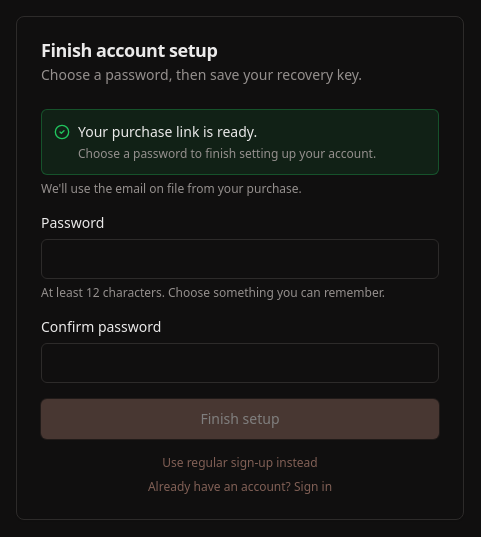
it: AuthPane claim setup › switches from claim setup to regular sign-up explicitly
The width and height of the screenshot is (481, 537).
What coordinates should you click on to do the following:
click the button "Use regular sign-up instead"
I would click on:
 (240, 463)
Its box is [162,455,318,471].
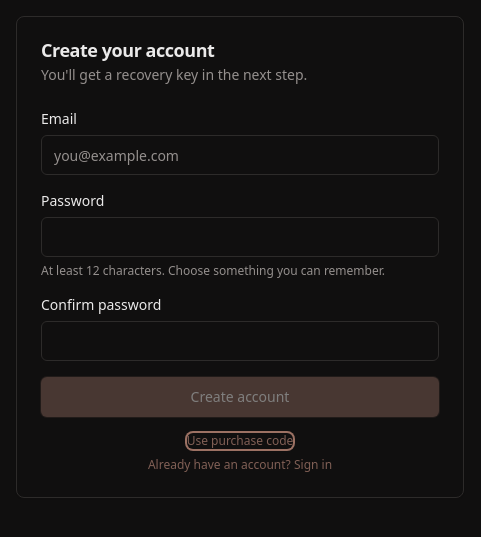
Expected: the heading "Create your account" is shown, [41,38,214,62]
Expected: the field labelled "Email" is shown, [41,135,439,175]
